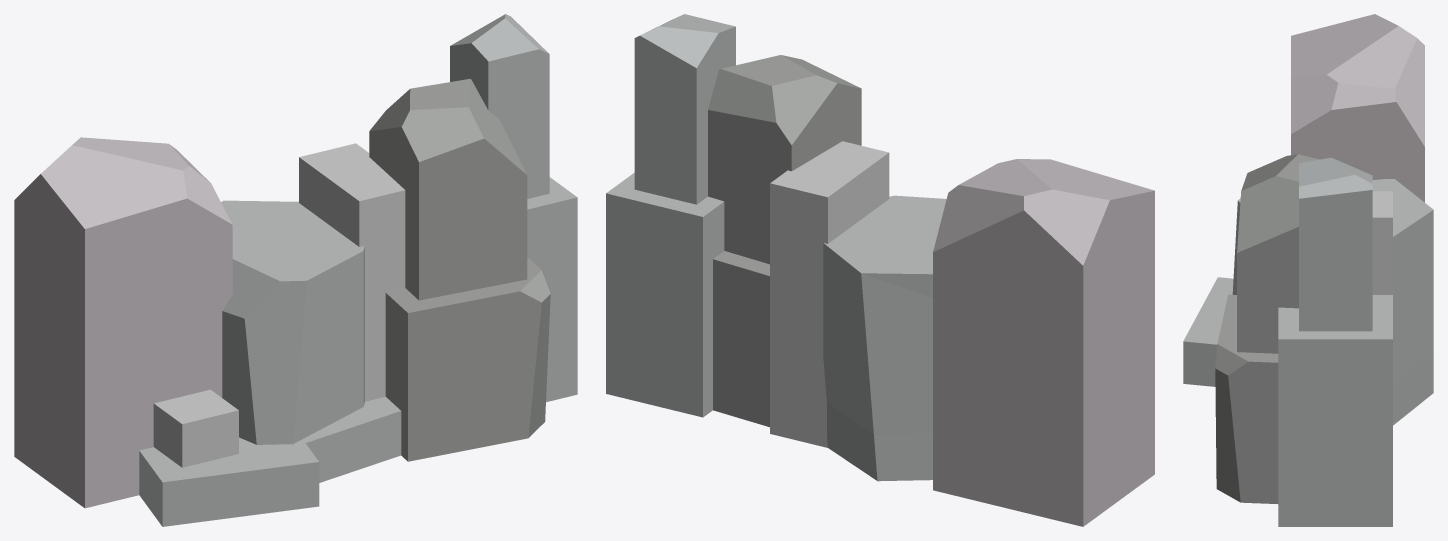
Rendered from Rock_Wall_05.fbx.
3 renders of one model, left to right at view 1: azimuth 30°, elevation 25°; view 2: azimuth 150°, elevation 25°; view 3: azimuth 270°, elevation 25°, orthographic. The views are drawn at different scales.
Visible parts, largest first — view 1: Rock_Wall_05; view 2: Rock_Wall_05; view 3: Rock_Wall_05.
Part boxes in pixels (x1=…): Rock_Wall_05: x1=14, y1=14, x2=577, y2=526; Rock_Wall_05: x1=606, y1=14, x2=1154, y2=526; Rock_Wall_05: x1=1183, y1=14, x2=1433, y2=526.
Bounding box in the file's own units: 684 × 477 × 321.
